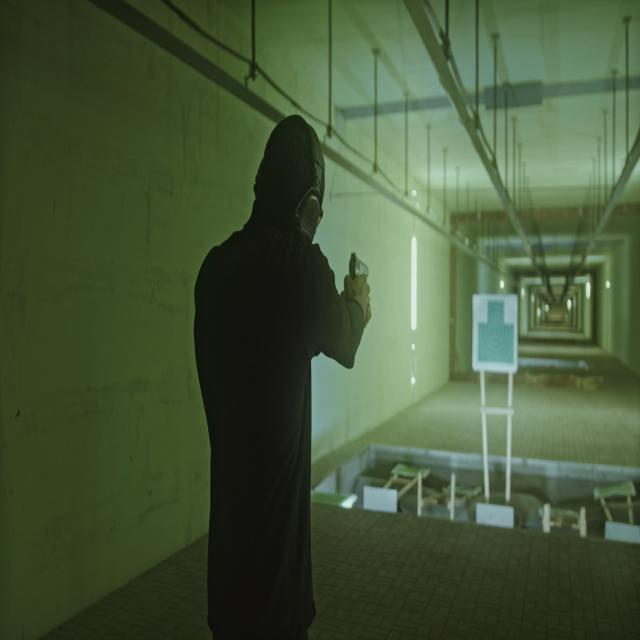Gun_Holder: (342, 246, 377, 321)
Person: (193, 105, 373, 640)
